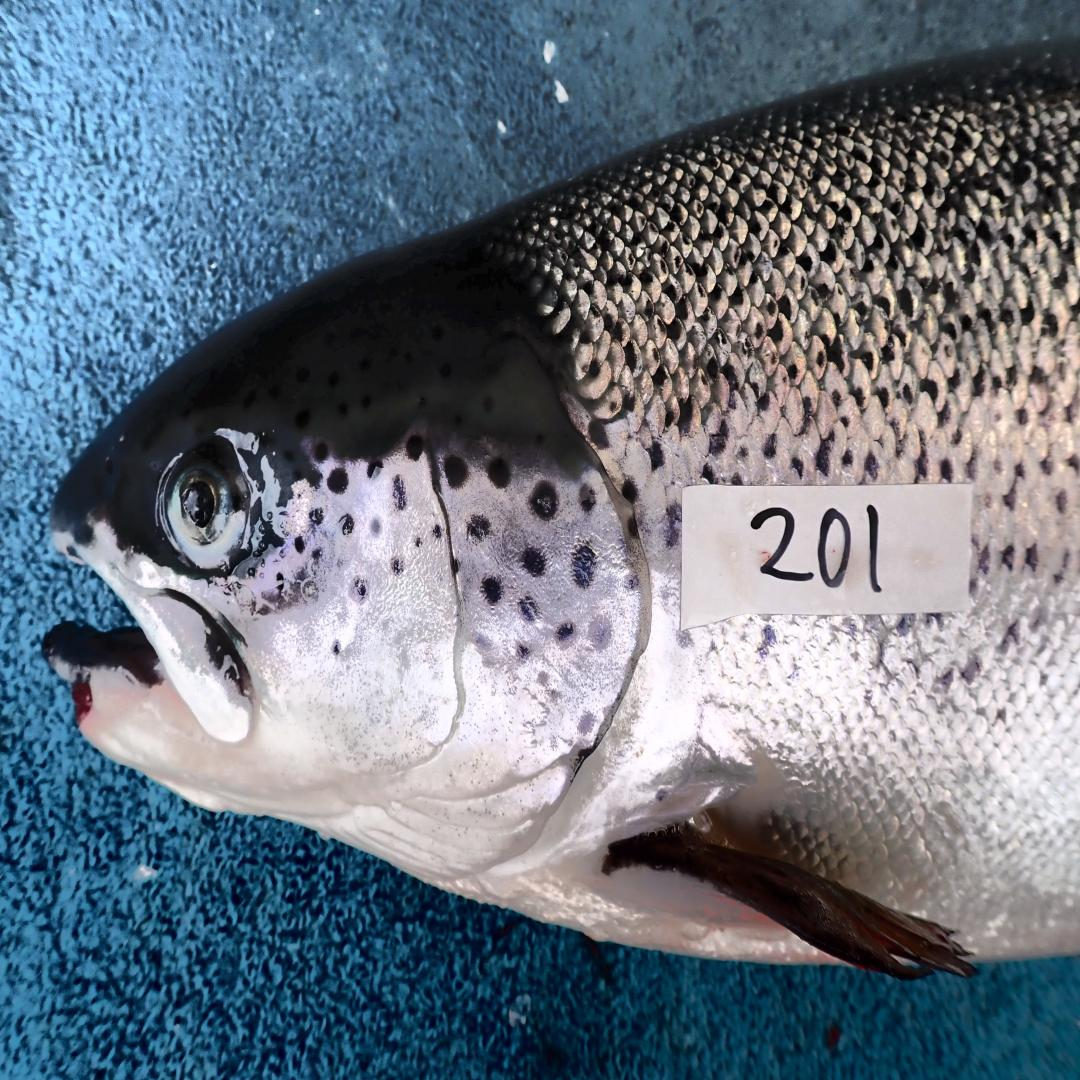spot: (529, 481, 559, 520), (589, 614, 614, 653), (572, 546, 595, 588), (443, 456, 468, 489), (487, 458, 510, 489), (523, 548, 546, 577), (481, 577, 502, 605), (327, 467, 348, 495), (466, 515, 489, 540), (392, 475, 407, 509), (519, 596, 538, 622), (580, 484, 597, 512), (406, 435, 424, 461), (555, 622, 576, 644), (350, 577, 367, 602), (365, 459, 385, 480), (517, 641, 532, 661), (340, 516, 354, 536), (628, 513, 639, 538), (310, 506, 323, 526), (432, 523, 444, 542), (274, 572, 285, 592), (449, 557, 460, 575), (295, 537, 306, 554), (371, 519, 381, 536), (392, 560, 403, 574), (312, 547, 323, 561), (333, 639, 342, 655), (413, 539, 424, 551), (521, 599, 525, 608)
